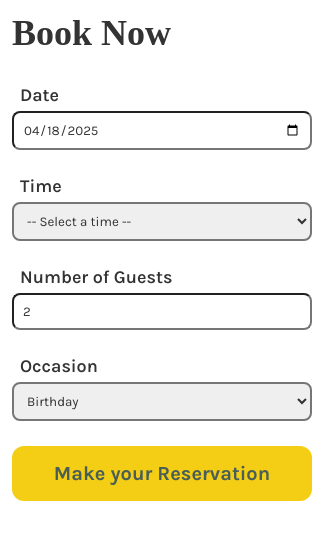
Scenario: Error message appears if <1 guests selected
Fill in the form fields
Type "0" into the number field labelled "Number of Guests" at point(162, 312), box x1=12 y1=293 x2=312 y2=330
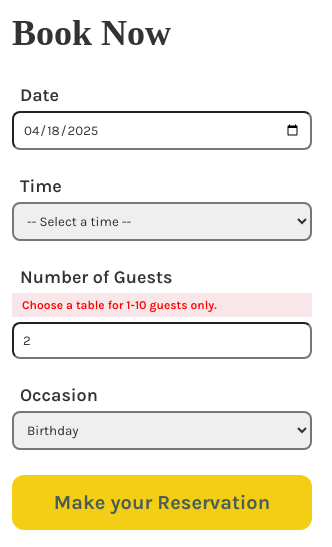
expect the text "Choose a table for 1-10 guests only." is shown: met, box x1=12 y1=293 x2=312 y2=317
